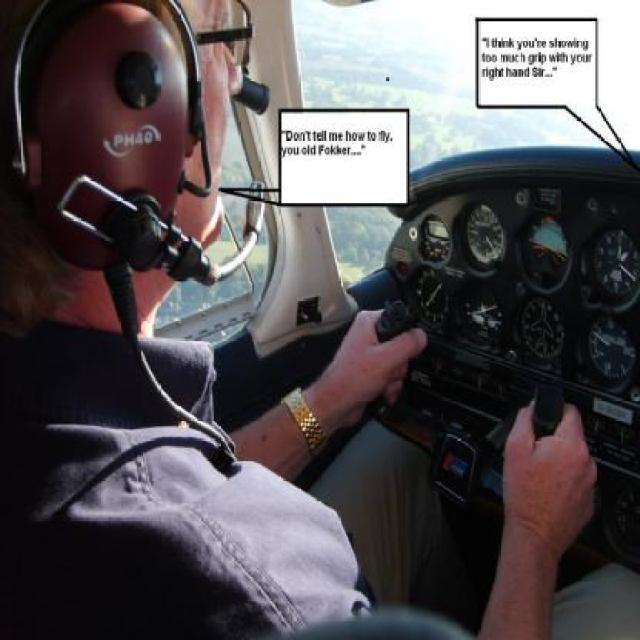earphone: (17, 7, 268, 308)
